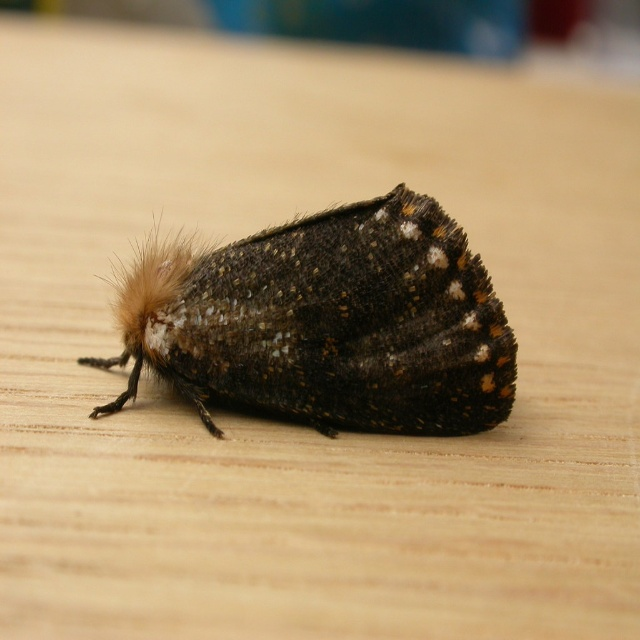Butterfly: (76, 180, 522, 448)
